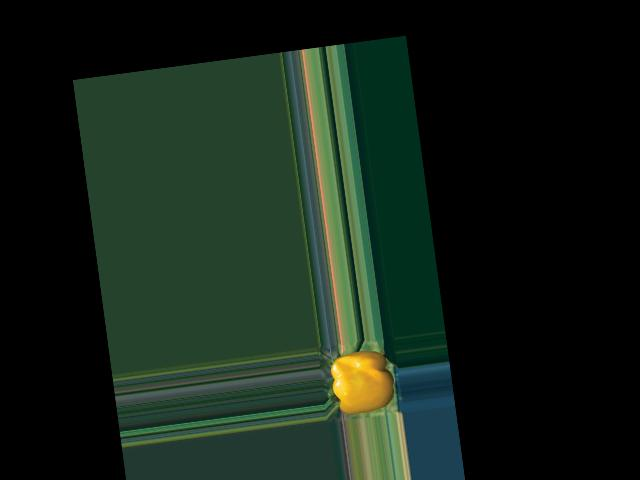bell_pepper: (322, 342, 398, 420)
